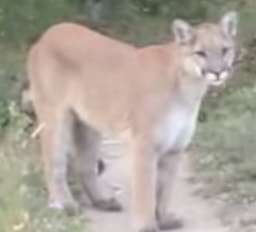Mountain Lion: (31, 17, 246, 229)
